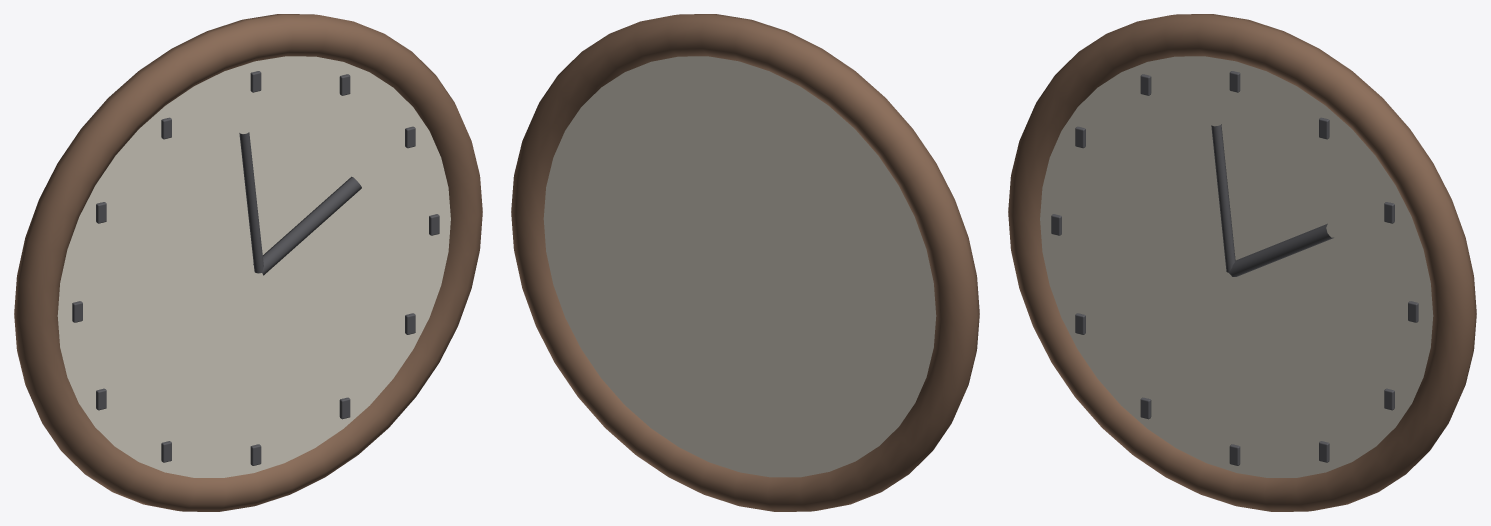
File: paranormal-investigation-house-wall-clock-040ef00f__26739.glb
3 views of the same model, side by side, from view 1: azimuth 30°, elevation 25°; view 2: azimuth 150°, elevation 25°; view 3: azimuth 330°, elevation 25° (orthographic).
Parts seen in each view (by area): view 1: wall-clock; view 2: wall-clock; view 3: wall-clock.
Part boxes in pixels (<box>): wall-clock: <box>14,14,482,511</box>; wall-clock: <box>511,14,979,511</box>; wall-clock: <box>1008,14,1476,511</box>.
Size of the model in its own units: 0.61 by 0.61 by 0.0548.
